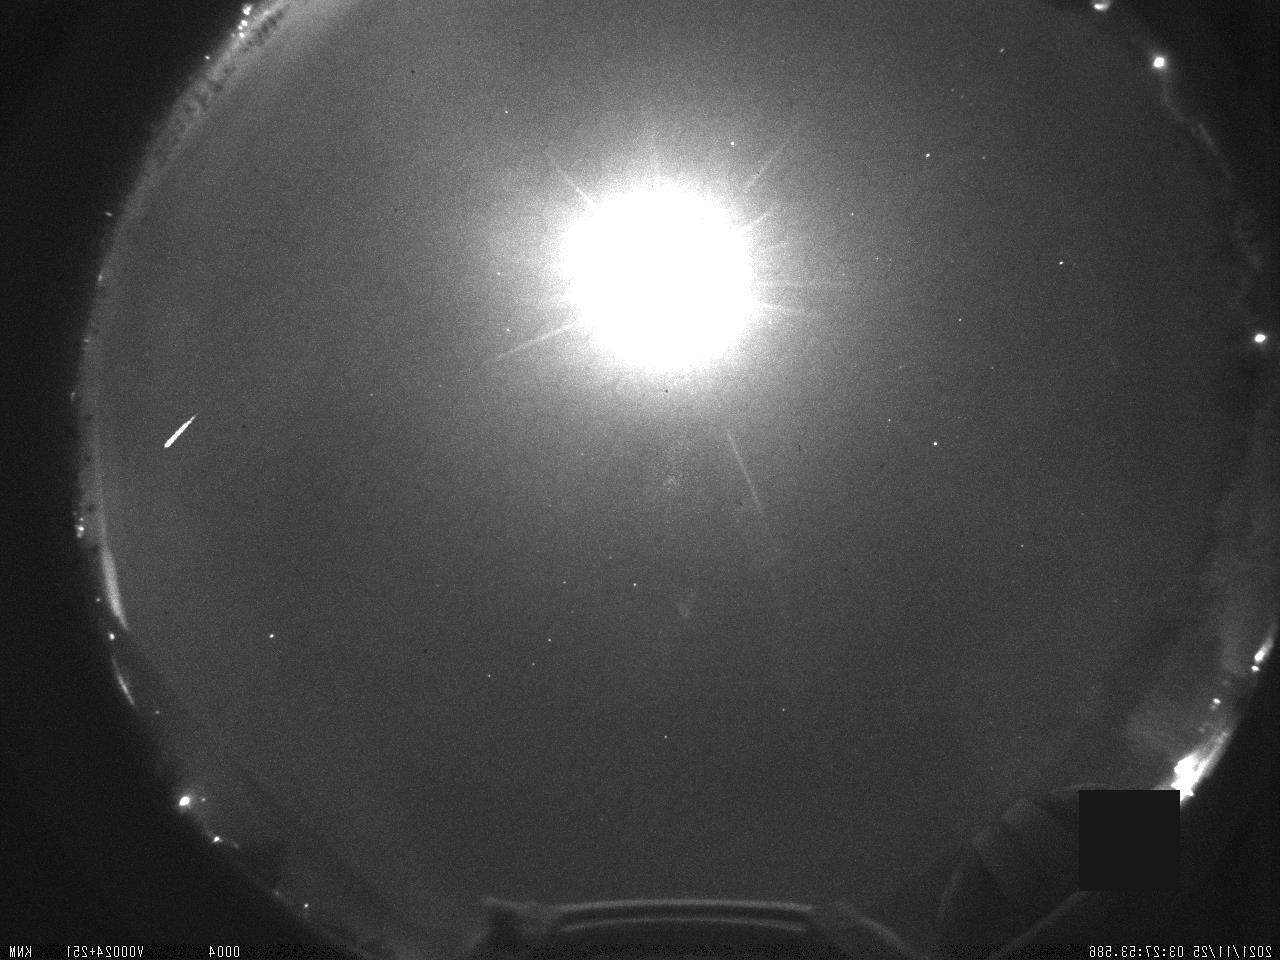meteor: (155, 404, 210, 460)
